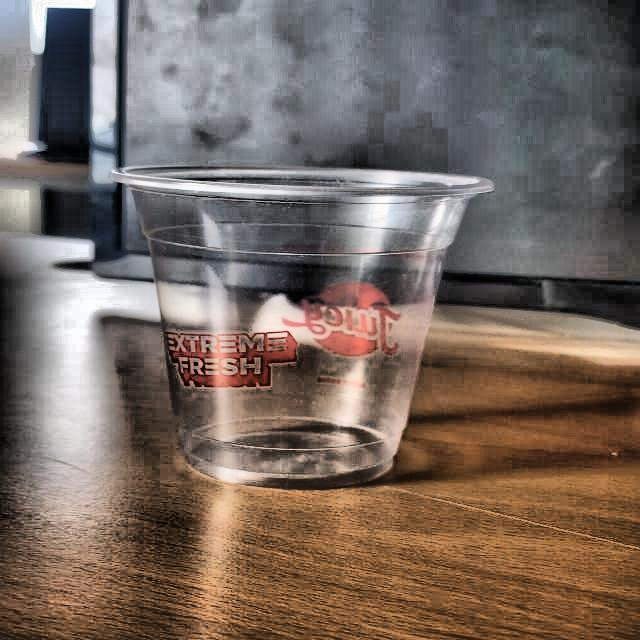plastic cup: (110, 162, 495, 492)
